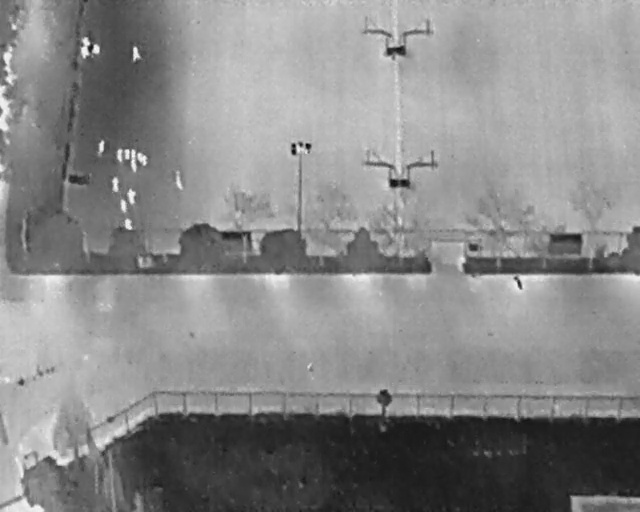Person: (175, 169, 184, 190), (126, 187, 136, 205), (132, 45, 142, 61), (111, 175, 119, 192), (81, 45, 90, 59), (124, 217, 133, 230), (98, 138, 105, 153), (120, 198, 127, 212), (82, 35, 90, 47), (93, 42, 100, 54), (117, 147, 123, 161), (124, 148, 130, 160), (142, 154, 148, 166), (131, 159, 137, 171), (137, 151, 143, 162), (131, 148, 136, 160)
